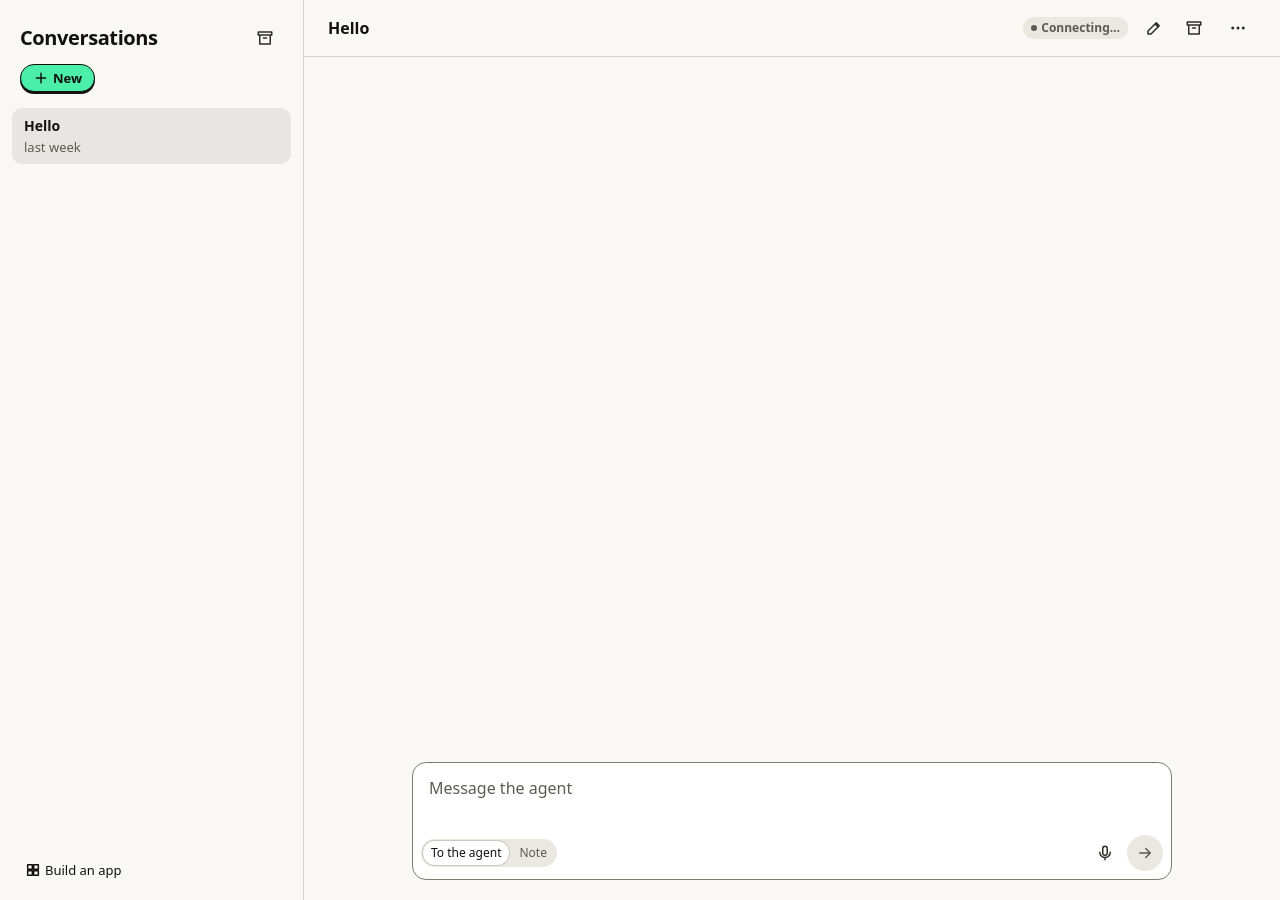
Test: a model still downloading says so, and the recording can be sent again
This screenshot has width=1280, height=900.
Click the button named "Dictate": point(1105, 853) top-left (1087, 835), bottom-right (1123, 871)
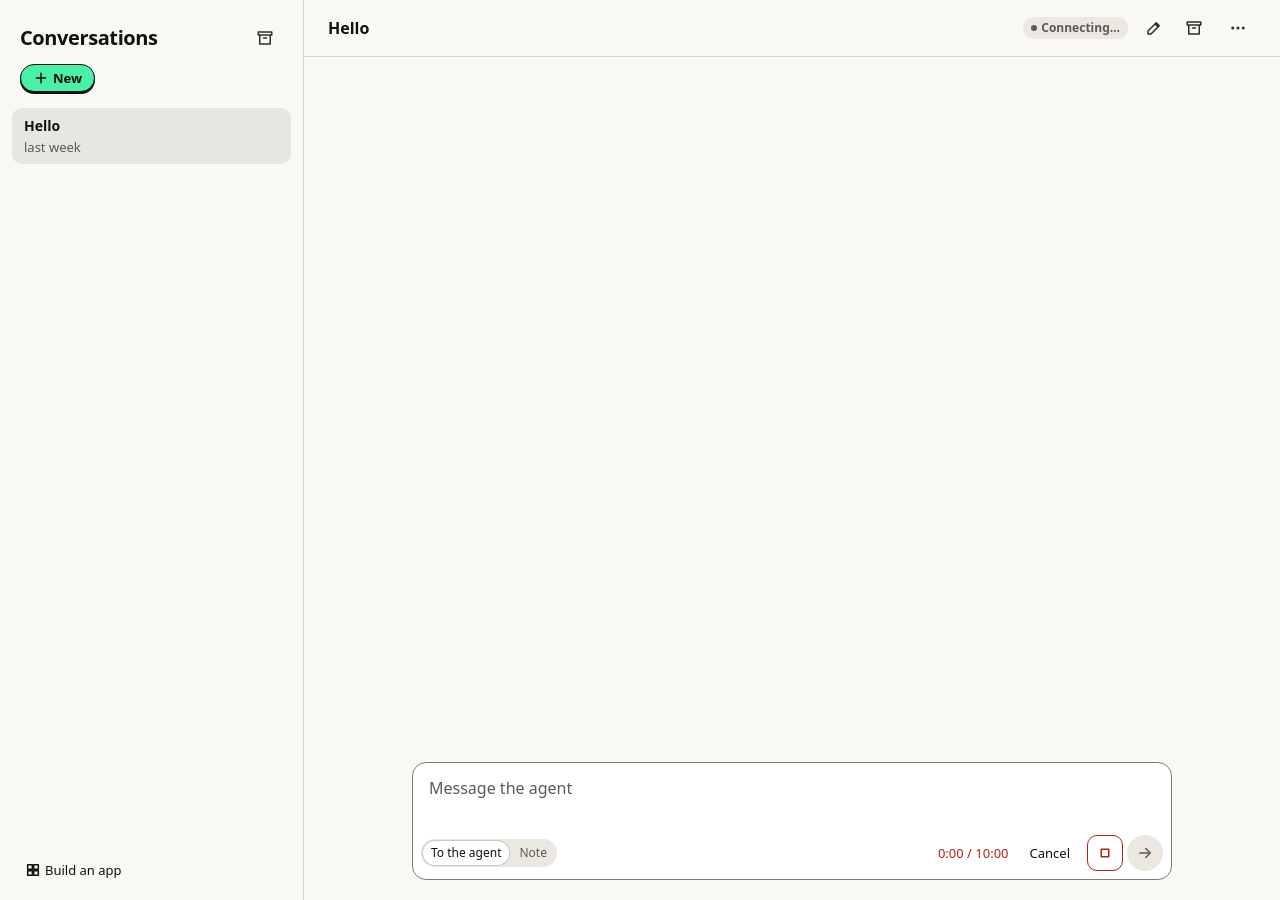
Click the button named "Stop dictation": point(1105, 853) top-left (1087, 835), bottom-right (1123, 871)
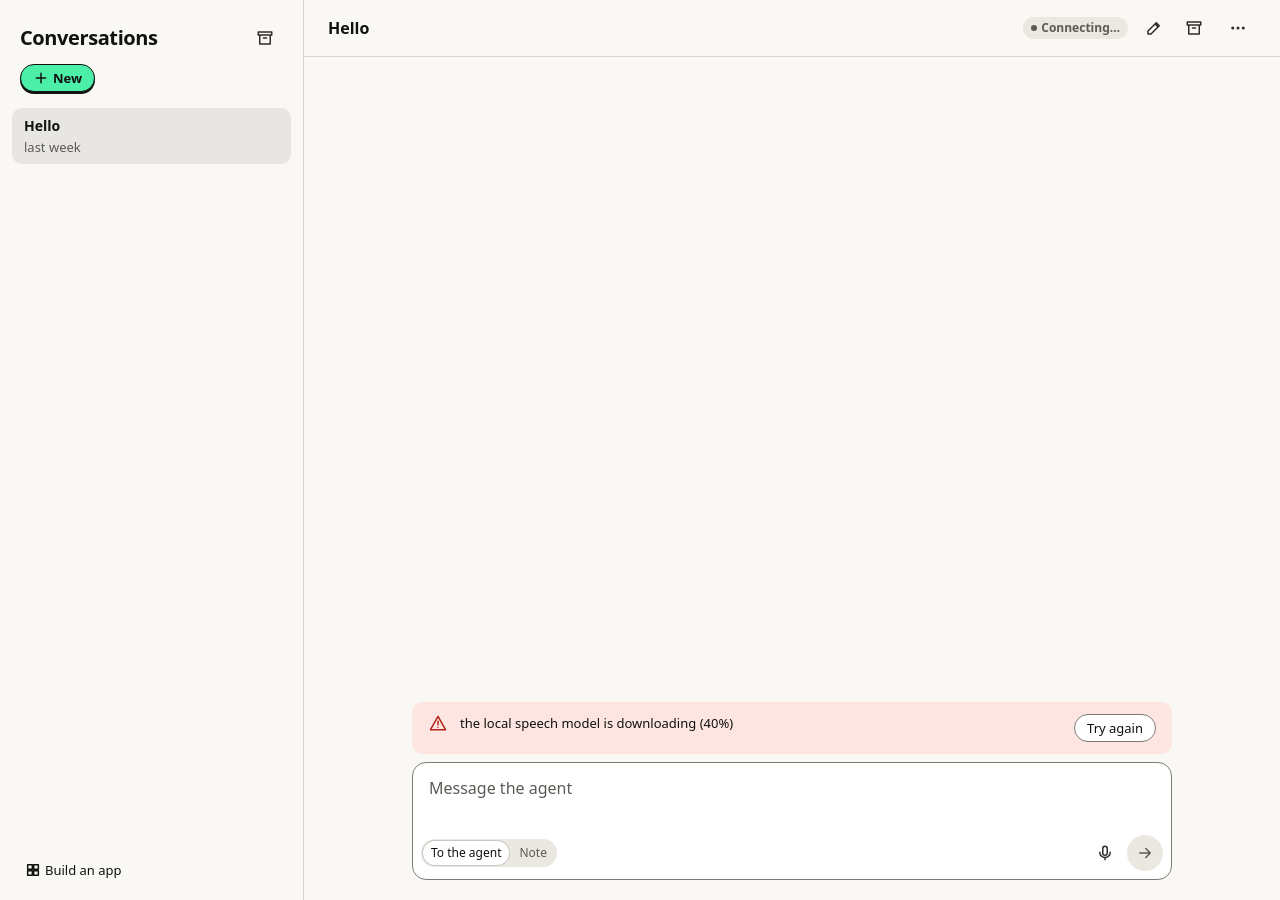
Expected: the message shows "downloading (40%)", top-left (460, 714), bottom-right (733, 732)
Click the button "Try again": point(1115, 728) top-left (1074, 714), bottom-right (1156, 742)
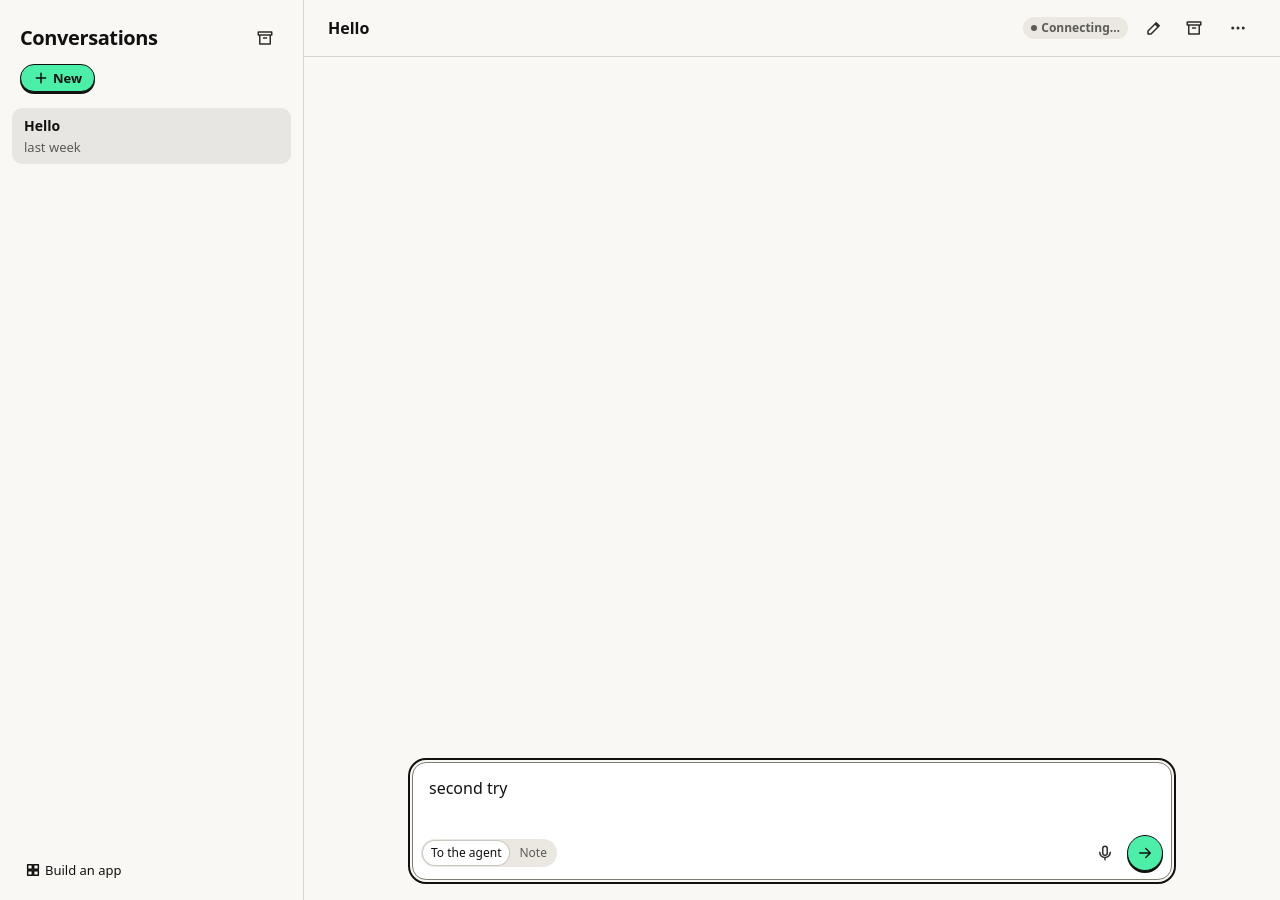
Expected: the text box labelled "Message" holds "second try", top-left (421, 771), bottom-right (1163, 831)
